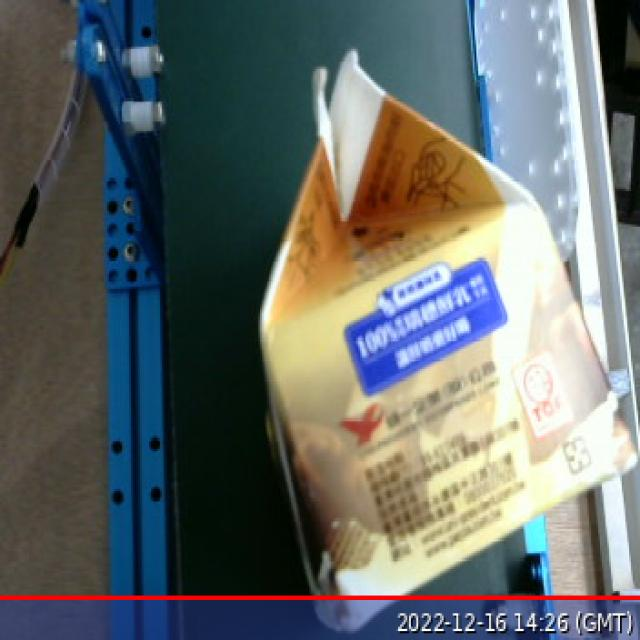non_white_jug: (221, 21, 640, 639)
